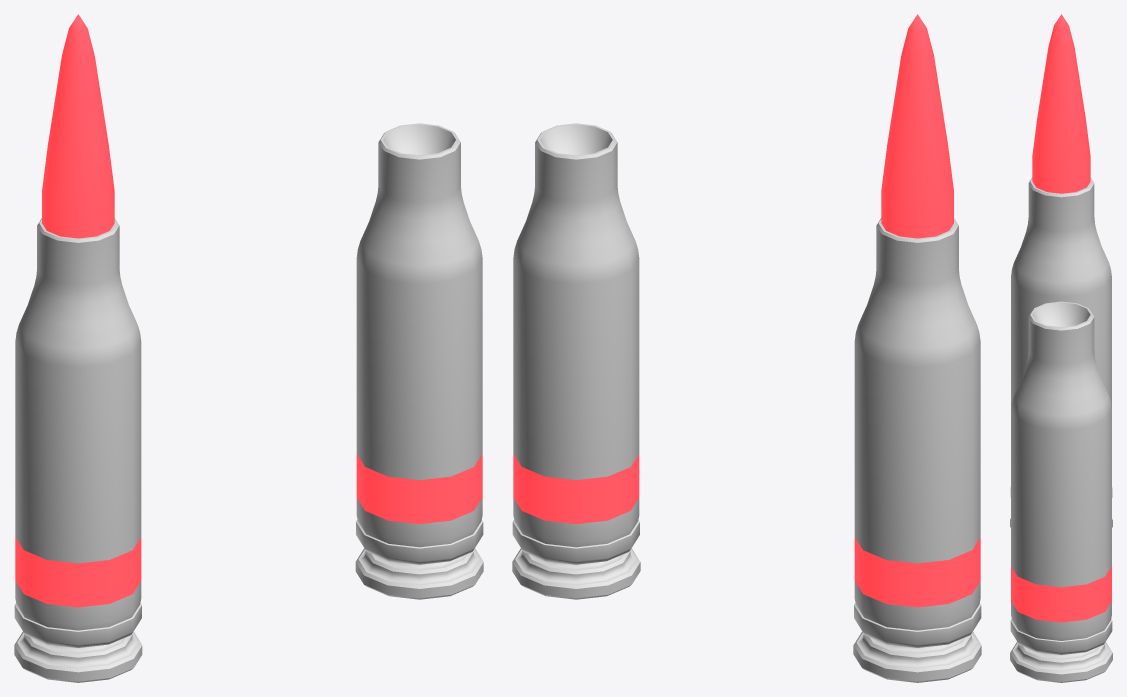
Rendered from Bullet.fbx.
3 renders of one model, left to right at view 1: azimuth 30°, elevation 25°; view 2: azimuth 150°, elevation 25°; view 3: azimuth 270°, elevation 25°, orthographic. The views are drawn at different scales.
Parts seen in each view (by area): view 1: IWS mag bullets loaded.001, IWS mag bullets loaded.002; view 2: IWS mag bullets loaded.001, IWS mag bullets loaded.002; view 3: IWS mag bullets loaded.002, IWS mag bullets loaded.001.
Boxes of the visible parts, x1,y1,x2,y2 form: IWS mag bullets loaded.001: (14, 14, 142, 682); IWS mag bullets loaded.002: (355, 123, 483, 599); IWS mag bullets loaded.001: (853, 14, 981, 682); IWS mag bullets loaded.002: (512, 123, 640, 599); IWS mag bullets loaded.002: (1010, 301, 1112, 682); IWS mag bullets loaded.001: (1010, 14, 1112, 527).
Size of the model in its own units: 0.0345 by 0.0469 by 0.00848.
